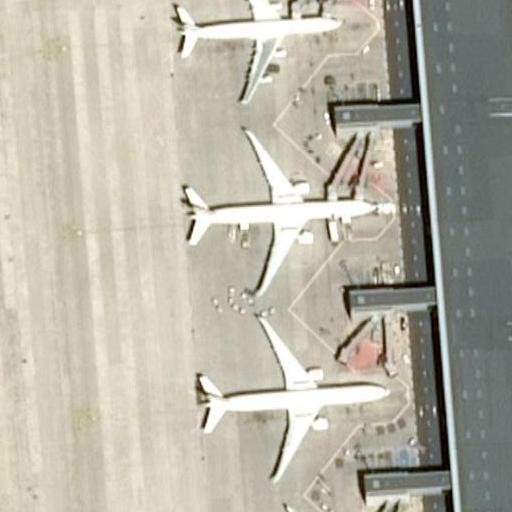Aircraft: (172, 120, 375, 292), (189, 312, 385, 481), (156, 0, 346, 94), (221, 509, 406, 512)
